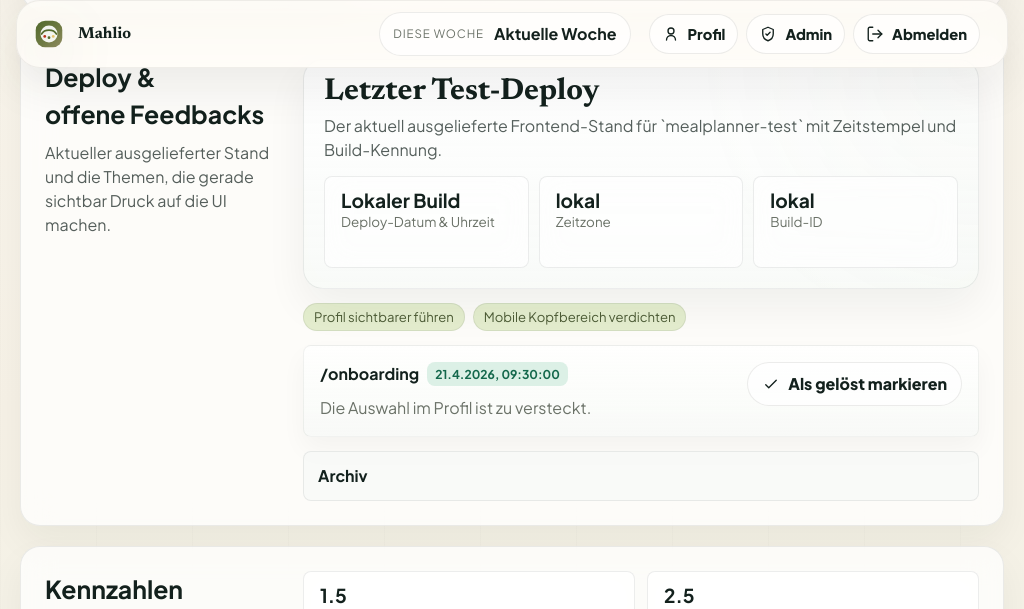
Mealplanner app › marks admin feedback as resolved and removes it from the open list
(page scrolled)
Expected: the text "Die Auswahl im Profil ist zu versteckt." is shown, [320,397,591,418]
Click the button "Als gelöst markieren" at (855, 384), box [747,362,962,406]
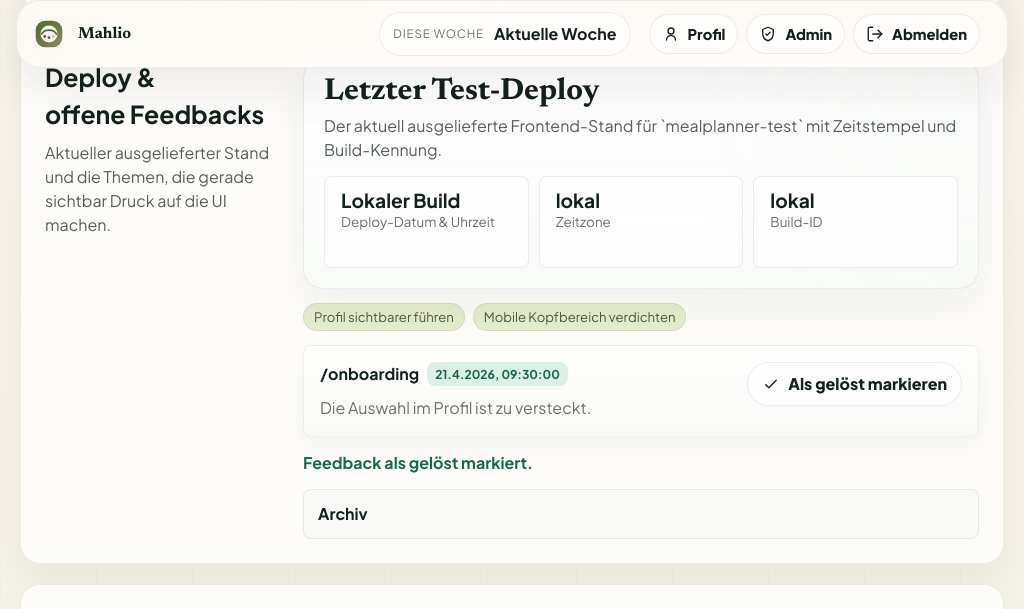
Result: the text "Feedback als gelöst markiert." is shown at [303,452,533,473]
